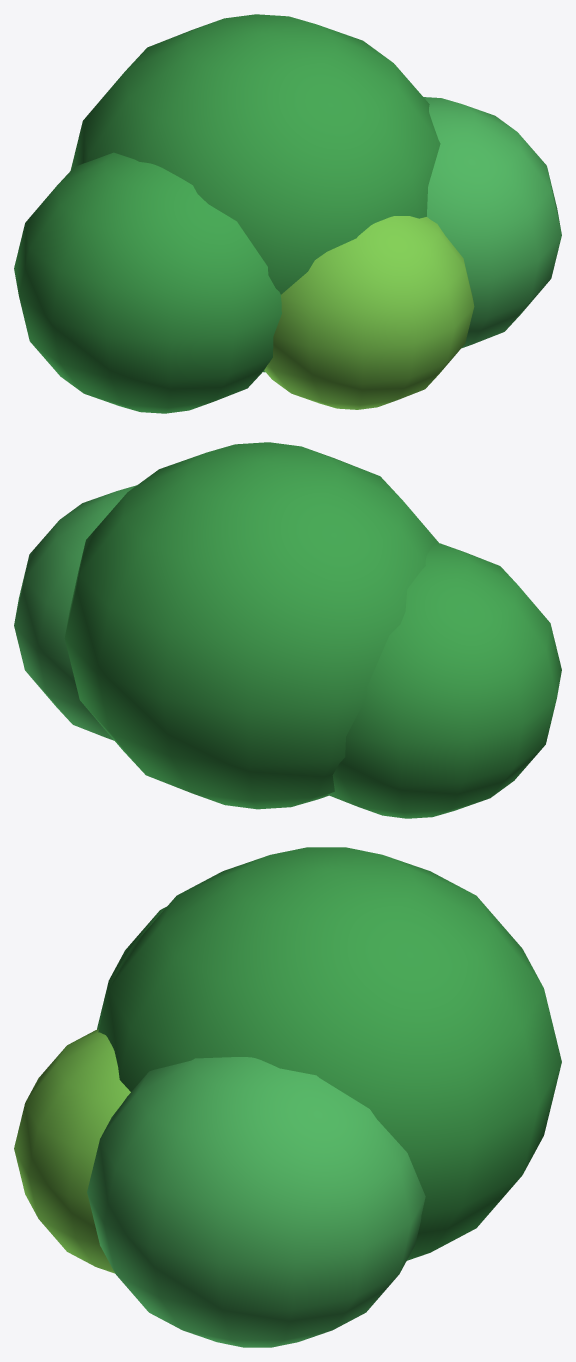
Rendered from arbusto_redondo.glb.
3 renders of one model, top to bottom at view 1: azimuth 30°, elevation 25°; view 2: azimuth 150°, elevation 25°; view 3: azimuth 270°, elevation 25°, orthographic. The views are drawn at different scales.
Visible parts, largest first — view 1: arbusto_redondo; view 2: arbusto_redondo; view 3: arbusto_redondo.
Boxes of the visible parts, x1,y1,x2,y2 form: arbusto_redondo: (14, 14, 561, 413); arbusto_redondo: (14, 442, 561, 818); arbusto_redondo: (14, 847, 561, 1347).
Bounding box in the file's own units: 1.71 × 1.04 × 1.35.
1 material, 1 textured.
